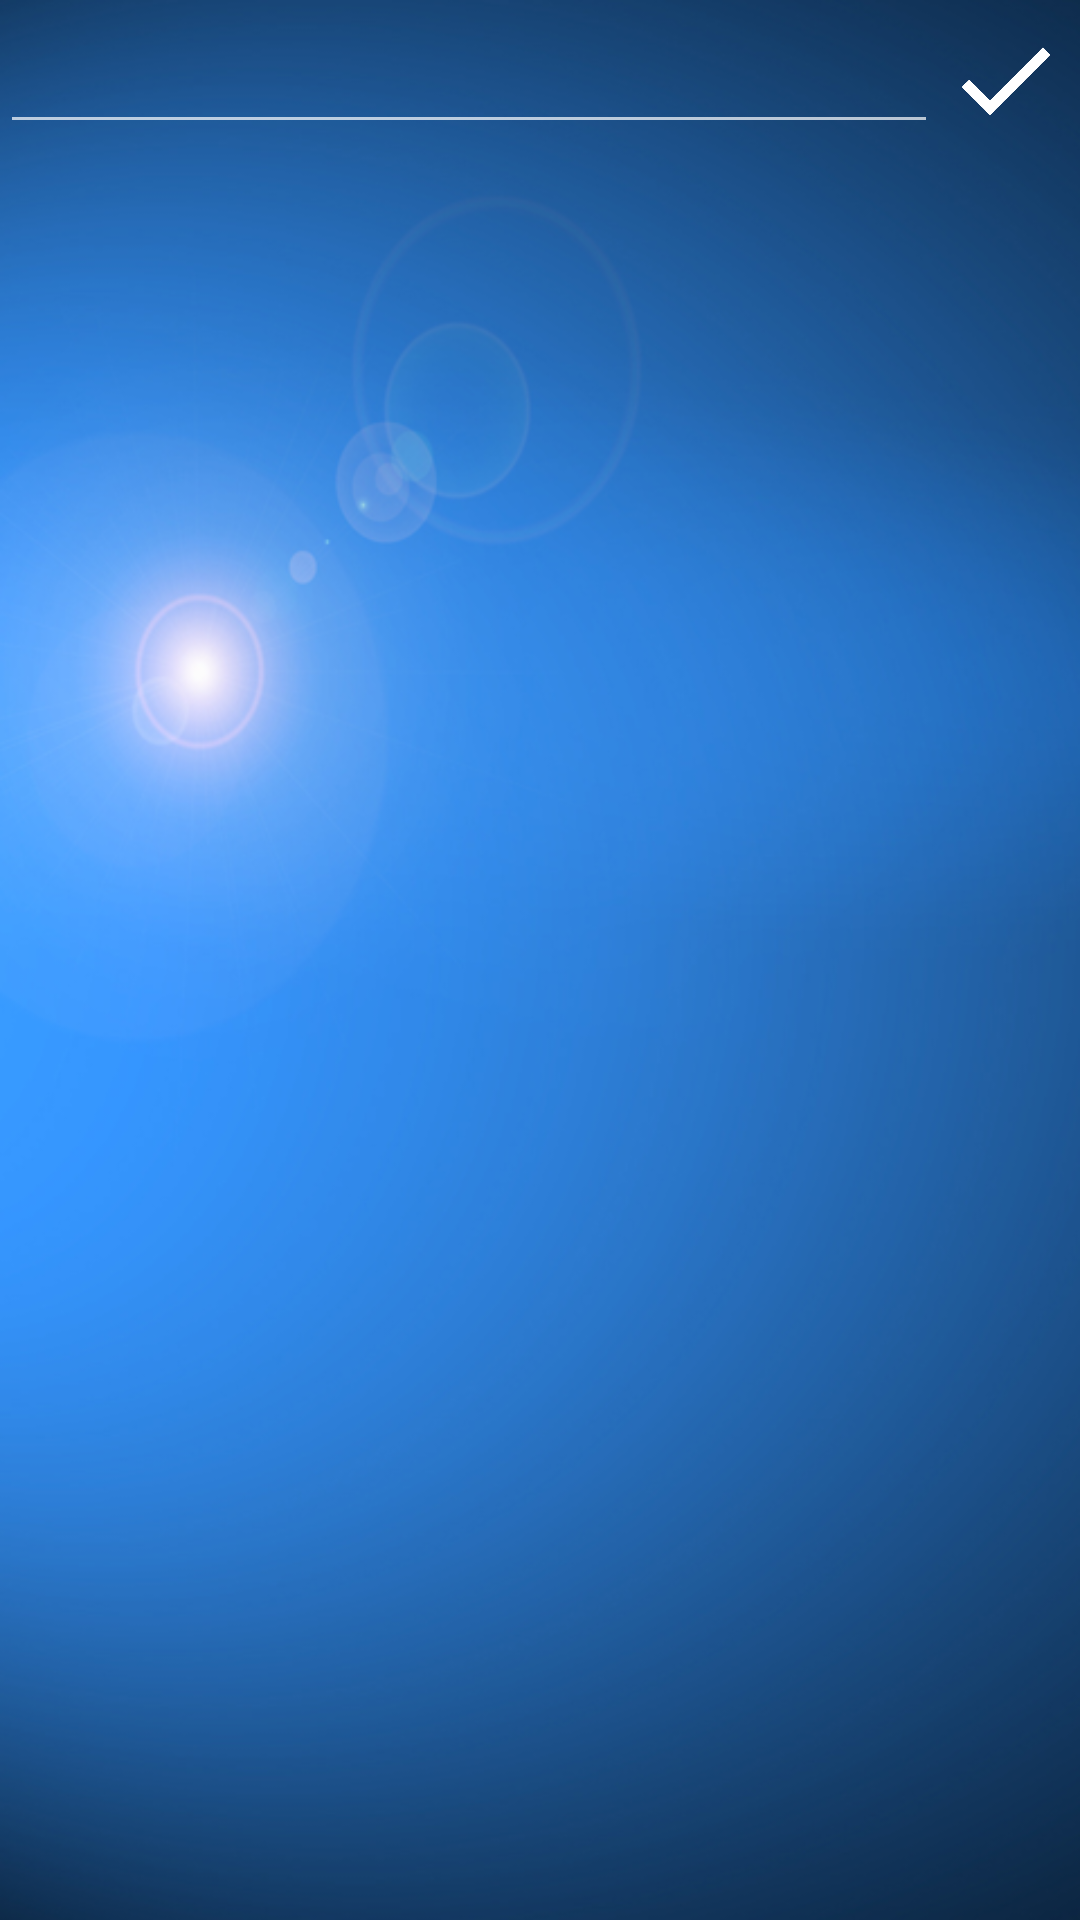

Named icons in this screenshot (1080×1920) and their centers, point (x, y):
check: point (1006, 81)
